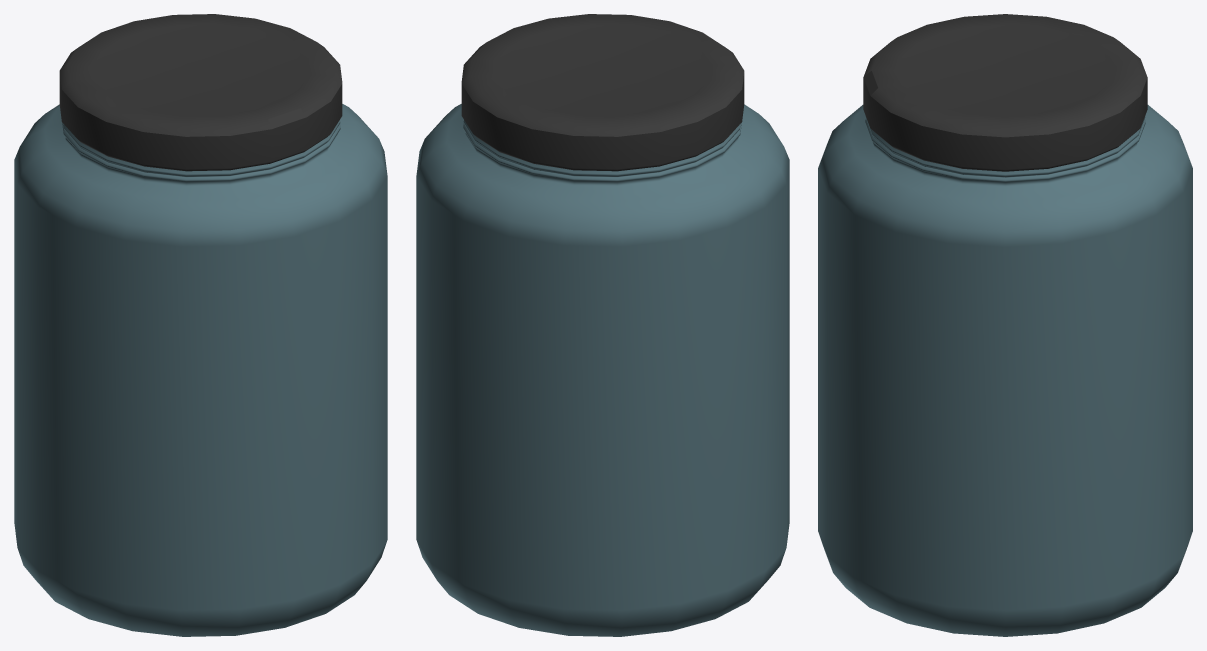
The model's file is SM_Glass_Jar_A.fbx.
3 views of the same model, side by side, from view 1: azimuth 30°, elevation 25°; view 2: azimuth 150°, elevation 25°; view 3: azimuth 270°, elevation 25° (orthographic).
Parts seen in each view (by area): view 1: SM_Glass_Jar_A_LOD0; view 2: SM_Glass_Jar_A_LOD0; view 3: SM_Glass_Jar_A_LOD0.
Boxes of the visible parts, x1=… form: SM_Glass_Jar_A_LOD0: x1=14, y1=14, x2=387, y2=636; SM_Glass_Jar_A_LOD0: x1=416, y1=14, x2=789, y2=636; SM_Glass_Jar_A_LOD0: x1=818, y1=14, x2=1192, y2=636.
Size of the model in its own units: 23.94 by 23.94 by 35.4.
